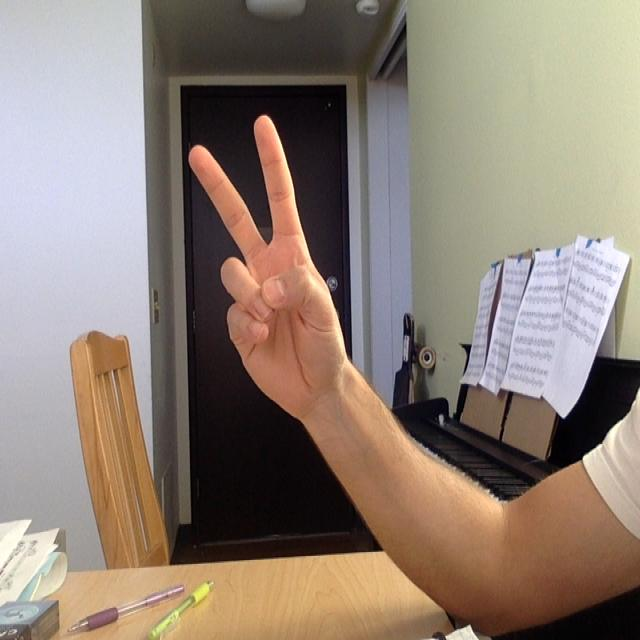V: (148, 71, 388, 473)
